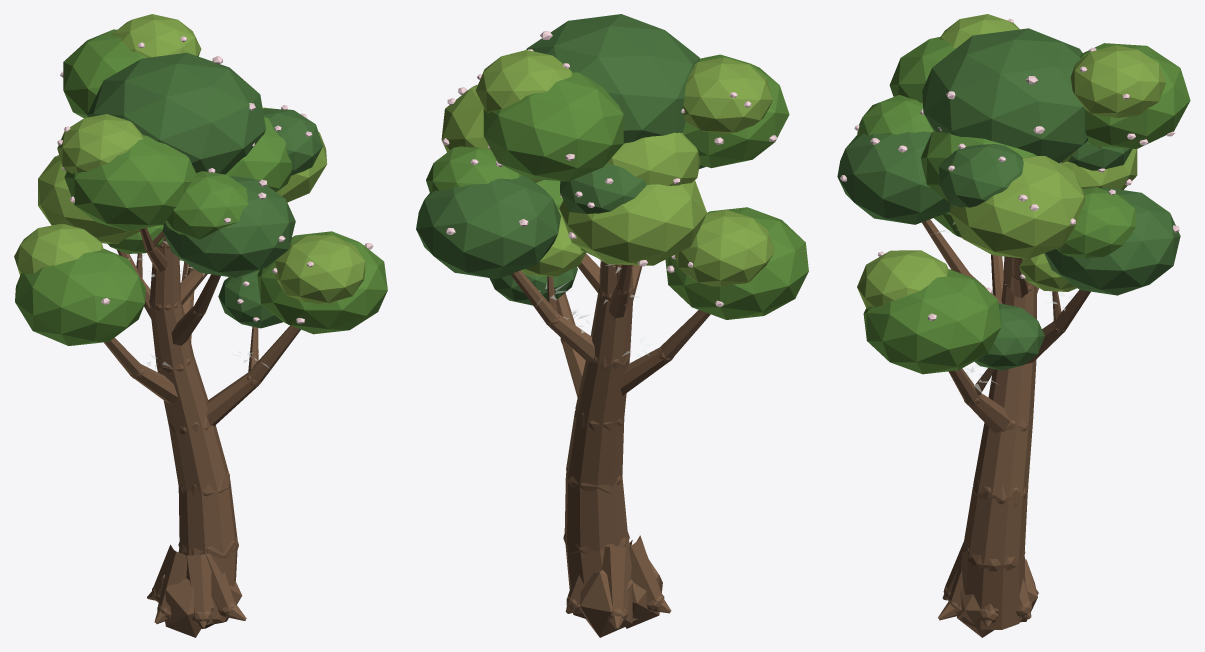
The model's file is tree_08_milestone_1_blomster.glb.
3 renders of one model, left to right at view 1: azimuth 30°, elevation 25°; view 2: azimuth 150°, elevation 25°; view 3: azimuth 270°, elevation 25°, orthographic. The views are drawn at different scales.
Visible parts, largest first — view 1: OR_Tree_leafA, OR_Tree_bark, OR_Tree_leafC, OR_Tree_leafB, OR_Tree_blossom; view 2: OR_Tree_leafB, OR_Tree_leafC, OR_Tree_bark, OR_Tree_leafA, OR_Tree_blossom; view 3: OR_Tree_leafC, OR_Tree_leafA, OR_Tree_leafB, OR_Tree_bark, OR_Tree_blossom.
Part boxes in pixels (x1=…): OR_Tree_leafA: x1=15, y1=29, x2=387, y2=345; OR_Tree_bark: x1=104, y1=224, x2=300, y2=637; OR_Tree_leafC: x1=87, y1=52, x2=322, y2=328; OR_Tree_leafB: x1=14, y1=14, x2=365, y2=303; OR_Tree_blossom: x1=57, y1=36, x2=373, y2=324; OR_Tree_leafB: x1=441, y1=50, x2=774, y2=286; OR_Tree_leafC: x1=416, y1=14, x2=705, y2=305; OR_Tree_bark: x1=510, y1=253, x2=710, y2=637; OR_Tree_leafA: x1=426, y1=54, x2=808, y2=319; OR_Tree_blossom: x1=442, y1=31, x2=777, y2=306; OR_Tree_leafC: x1=837, y1=28, x2=1180, y2=370; OR_Tree_leafA: x1=857, y1=36, x2=1190, y2=374; OR_Tree_leafB: x1=857, y1=14, x2=1166, y2=308; OR_Tree_bark: x1=922, y1=146, x2=1101, y2=637; OR_Tree_blossom: x1=840, y1=18, x2=1179, y2=321.
Bounding box in the file's own units: 15.32 × 24.97 × 13.72.
